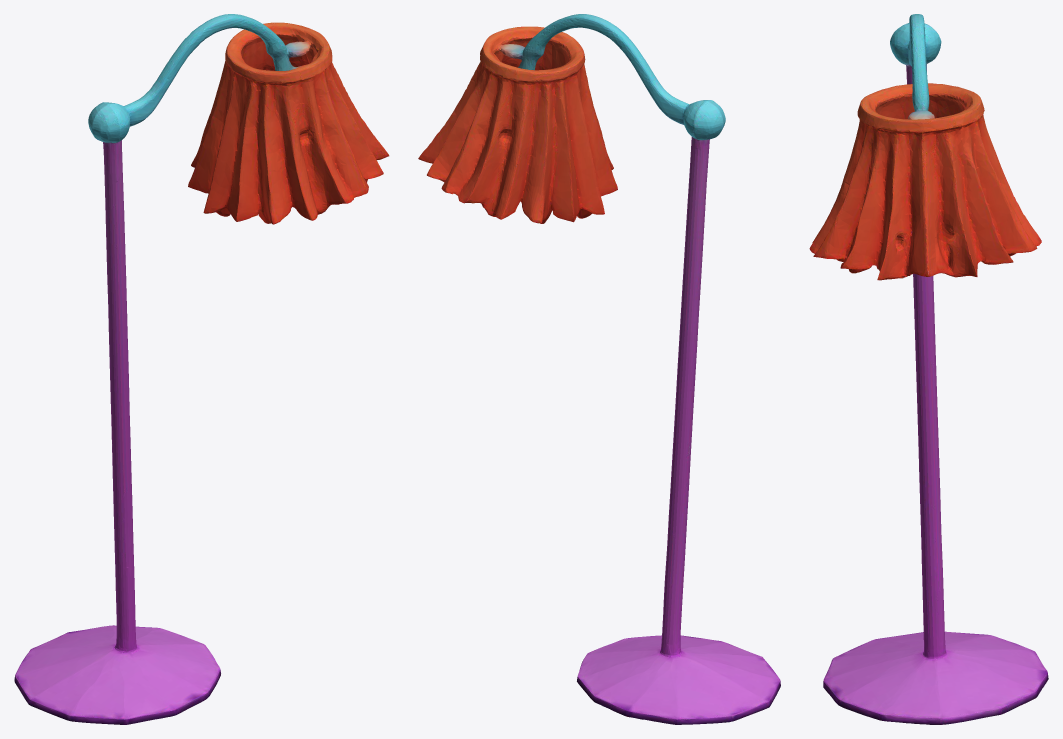
The model's file is floor_lamp_with_red_pleated_shade_000.glb.
3 renders of one model, left to right at view 1: azimuth 30°, elevation 25°; view 2: azimuth 150°, elevation 25°; view 3: azimuth 270°, elevation 25°, orthographic. The views are drawn at different scales.
Parts seen in each view (by area): view 1: floor_lamp_with_red_pleated_shade_000.obj; view 2: floor_lamp_with_red_pleated_shade_000.obj; view 3: floor_lamp_with_red_pleated_shade_000.obj.
Part boxes in pixels (bbox=[...]): floor_lamp_with_red_pleated_shade_000.obj: bbox=[14, 14, 389, 724]; floor_lamp_with_red_pleated_shade_000.obj: bbox=[418, 14, 780, 724]; floor_lamp_with_red_pleated_shade_000.obj: bbox=[809, 14, 1048, 724].
Bounding box in the file's own units: 0.5788 × 1.06 × 0.3185.
1 material, 1 textured.
